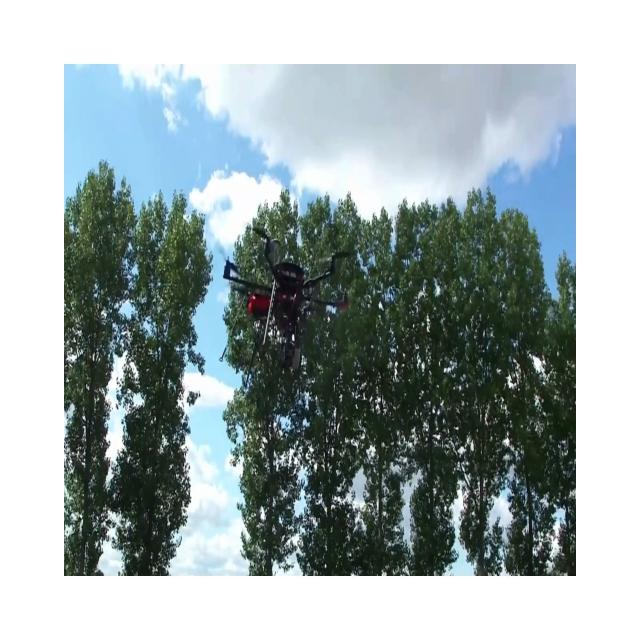drone: (220, 220, 354, 377)
